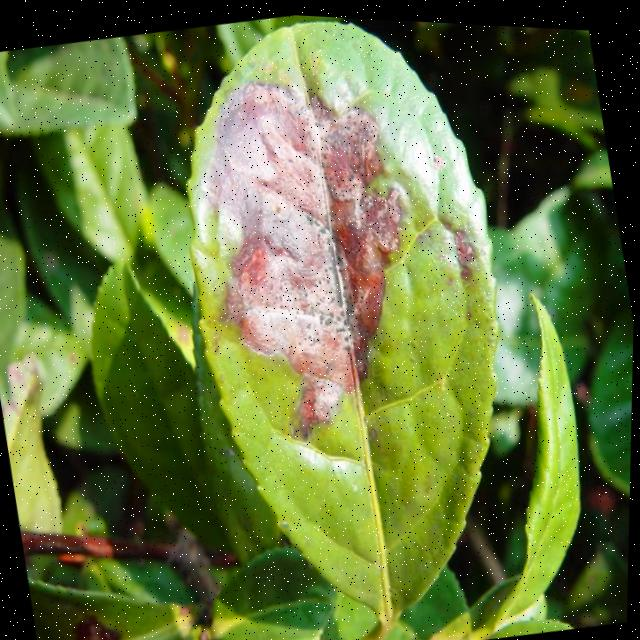Tea cloud leaf blight: (184, 45, 441, 432)
